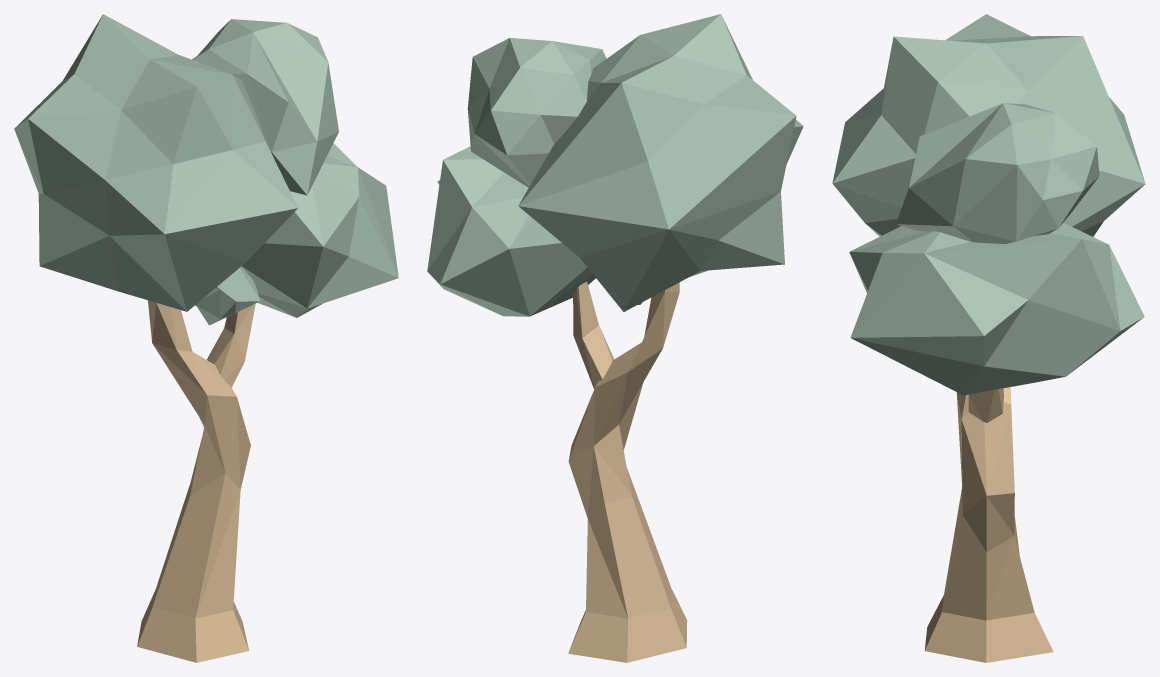
The model's file is Tree_02.fbx.
3 views of the same model, side by side, from view 1: azimuth 30°, elevation 25°; view 2: azimuth 150°, elevation 25°; view 3: azimuth 270°, elevation 25° (orthographic). The views are drawn at different scales.
Visible parts, largest first — view 1: Tree_02; view 2: Tree_02; view 3: Tree_02.
Boxes of the visible parts, left/top/right/bottom form: Tree_02: left=14, top=14, right=398, bottom=662; Tree_02: left=427, top=14, right=803, bottom=662; Tree_02: left=832, top=14, right=1145, bottom=662.
Bounding box in the file's own units: 1238 × 1972 × 956.
